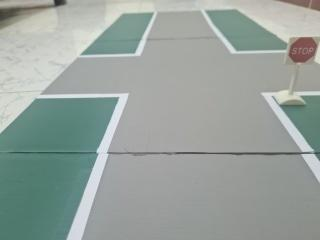stop: (282, 31, 320, 68)
